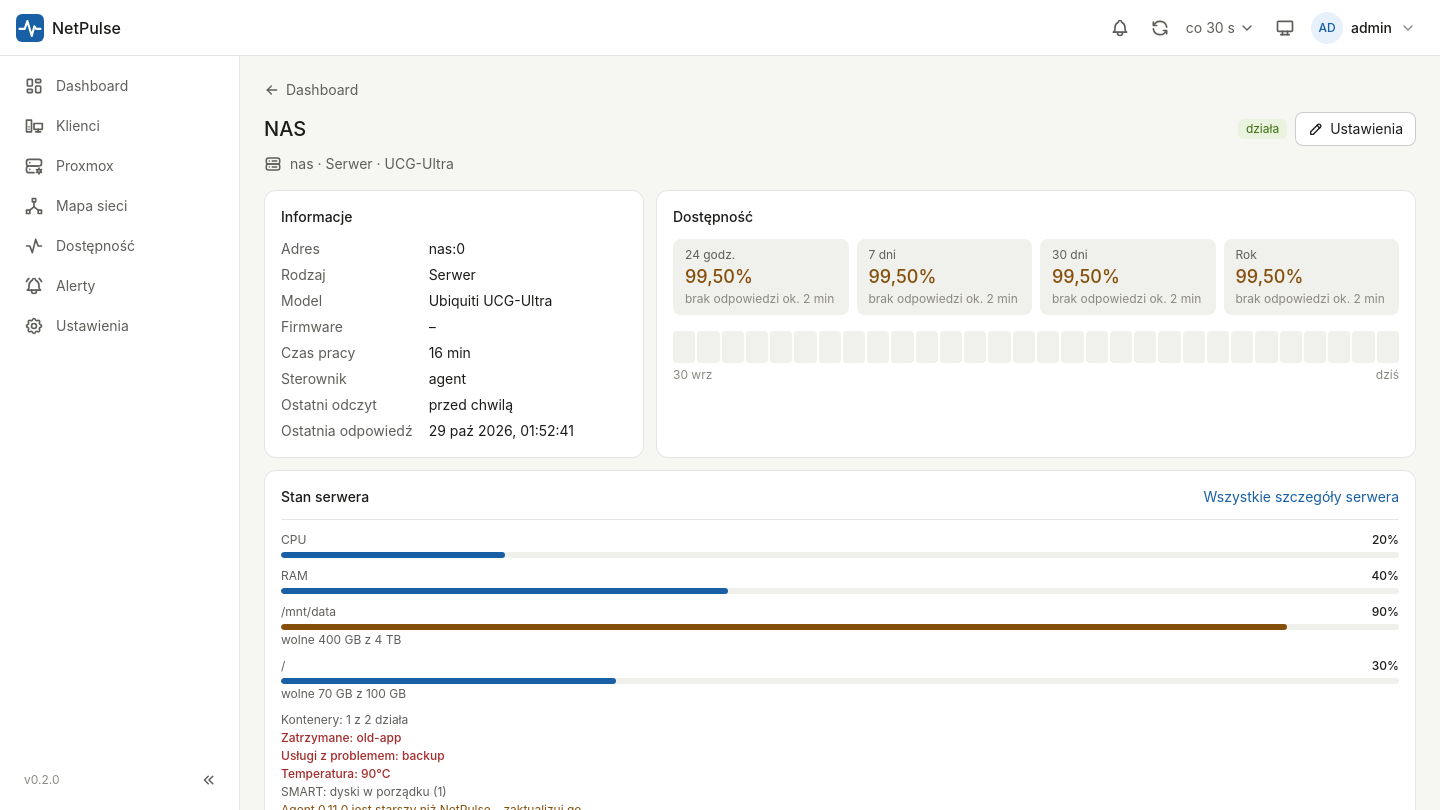
Test: strona szczegółów serwera › strona urządzenia prowadzi do pełnych szczegółów: dyski, kontenery, usługi, sieć, temperatury
What coordinates should you click on to do the following:
click the link "Wszystkie szczegóły serwera"
I would click on:
 (1301, 497)
Its box is top-left (1204, 487), bottom-right (1399, 507).
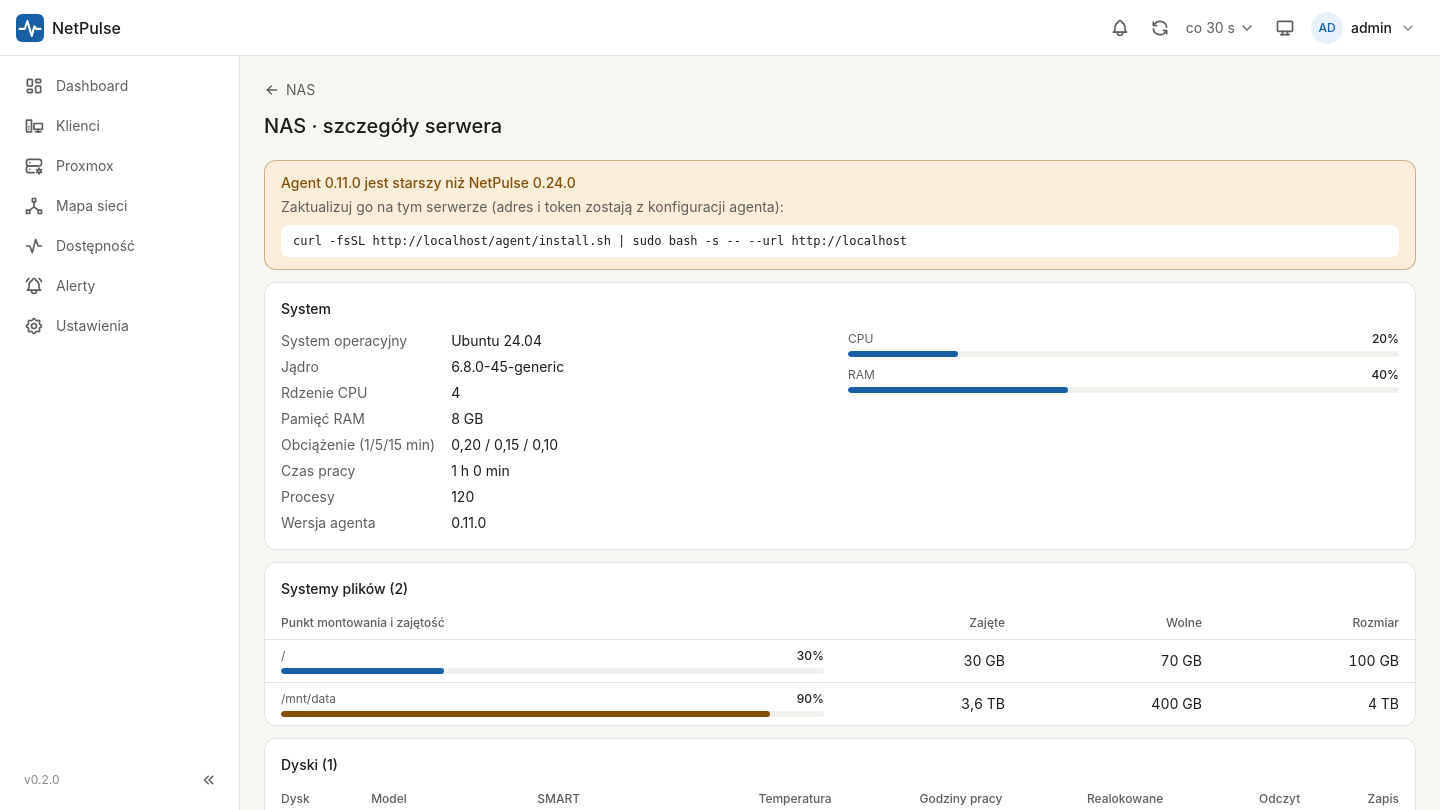
Now the heading "NAS · szczegóły serwera" is shown, box top-left (264, 112), bottom-right (502, 140)
Now the text "Ubuntu 24.04" is shown, box top-left (451, 332), bottom-right (542, 349)
Now the text "0,20 / 0,15 / 0,10" is shown, box top-left (451, 436), bottom-right (558, 453)
